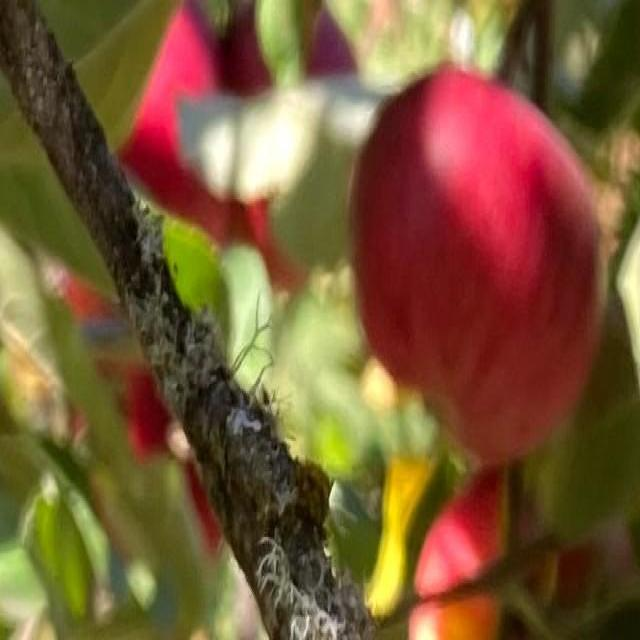Rotten Apple: (352, 66, 606, 457), (409, 462, 640, 640), (230, 2, 357, 292), (118, 0, 229, 245)
